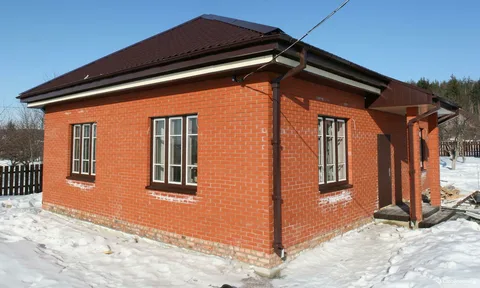private_hause: (35, 36, 453, 240)
